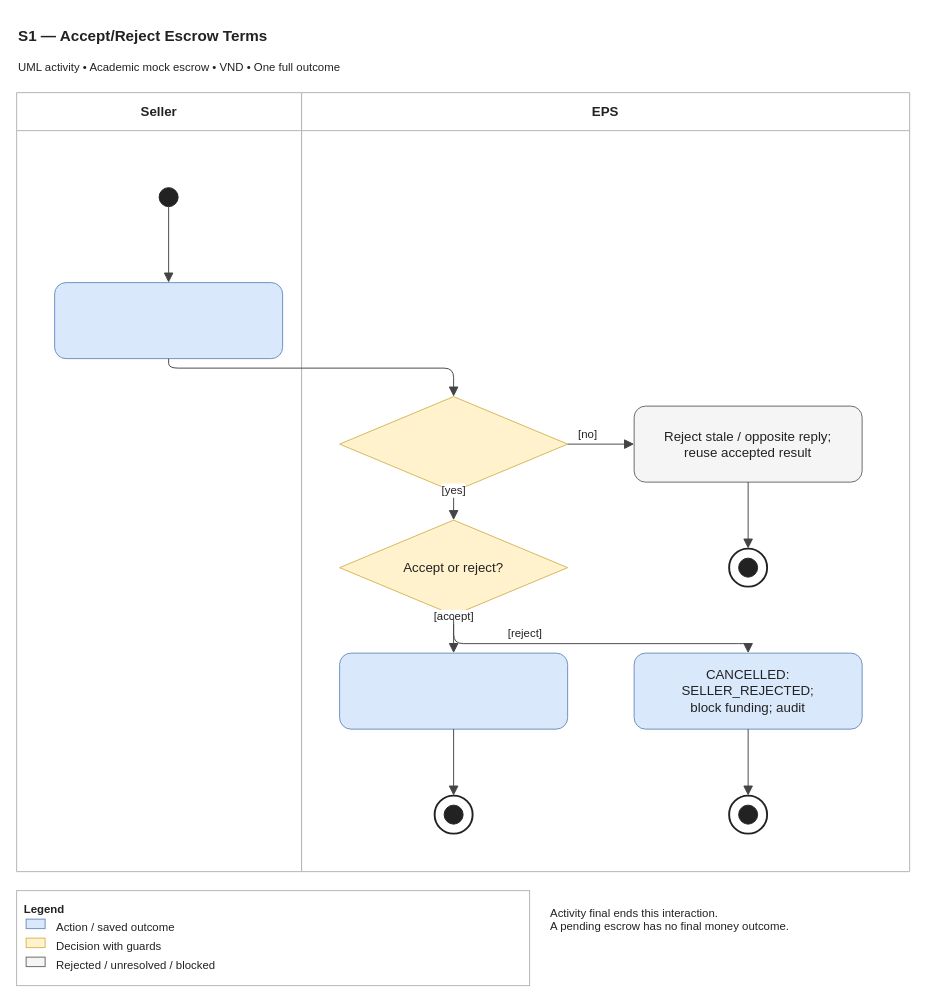
Some shapes in this 926 by 1002 pixel diagram are drawn without their labels. Here are the shapes that lost their labels. From the top down, the centre of each, then its label:
the point at 168,320: Review terms; accept or reject
the point at 453,444: Seller response eligible?
the point at 453,690: Freeze accepted terms; AWAITING_FUNDING; audit
